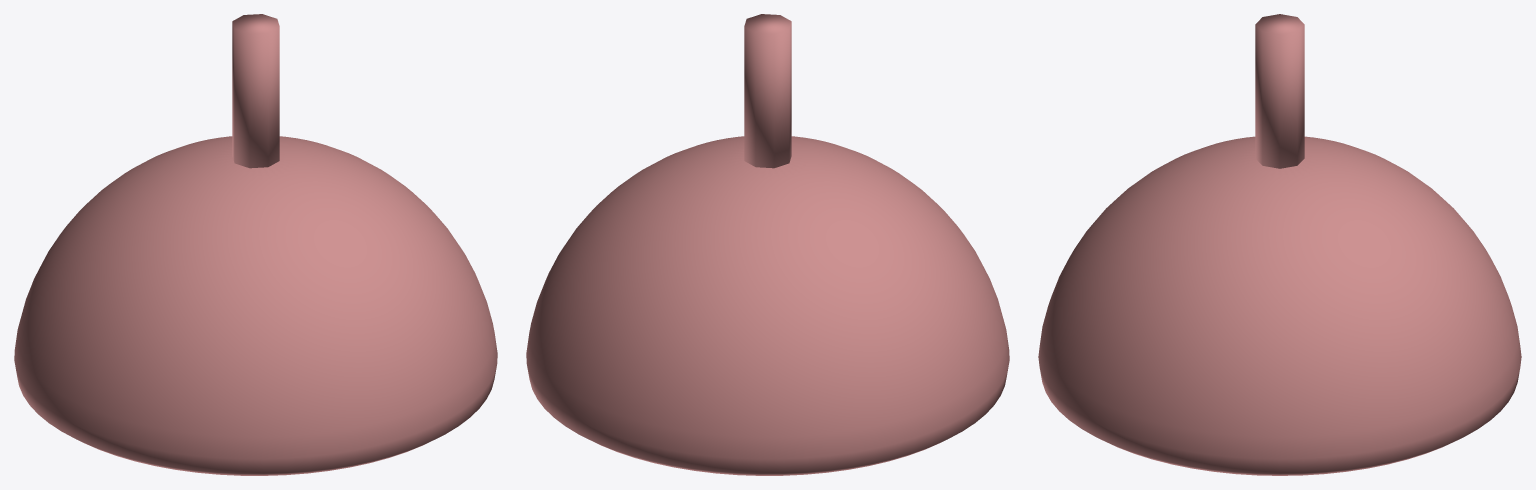
The model's file is CeilingLamp.glb.
The picture shows the model from 3 angles, left to right: view 1: azimuth 30°, elevation 25°; view 2: azimuth 150°, elevation 25°; view 3: azimuth 270°, elevation 25°; orthographic projection.
Visible parts, largest first — view 1: Roof Lamp; view 2: Roof Lamp; view 3: Roof Lamp.
Part boxes in pixels (left/top/right/bottom): Roof Lamp: left=14, top=14, right=497, bottom=475; Roof Lamp: left=526, top=14, right=1009, bottom=475; Roof Lamp: left=1038, top=14, right=1521, bottom=475.
Bounding box in the file's own units: 1.96 × 1.59 × 1.96.
